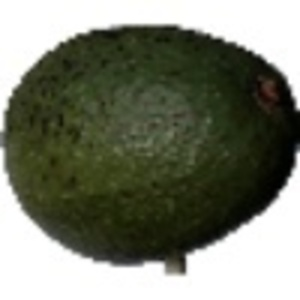abacate: (2, 23, 297, 261)
